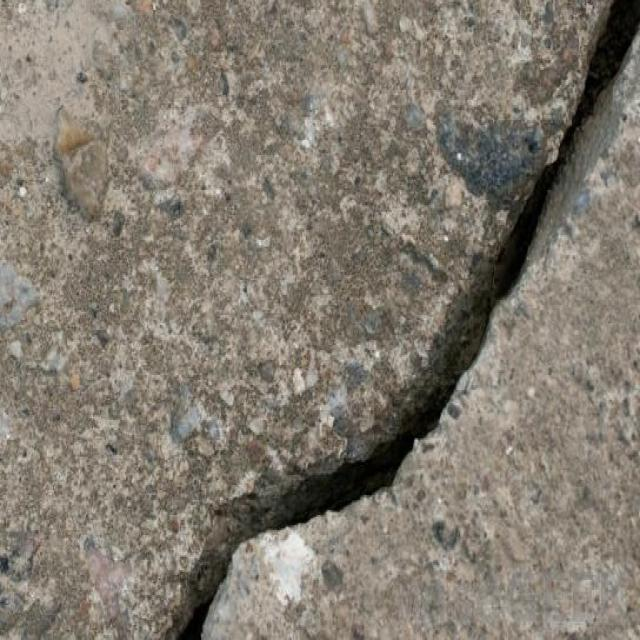crack: (158, 4, 639, 638)
